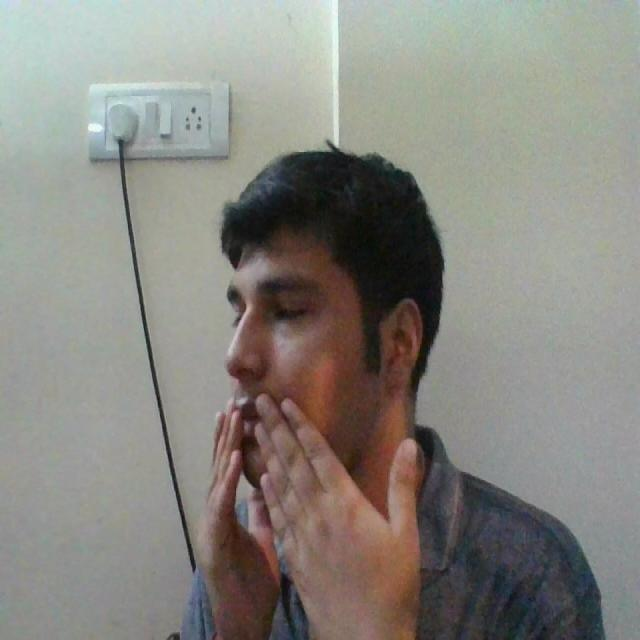Thanks: (167, 389, 456, 640)
